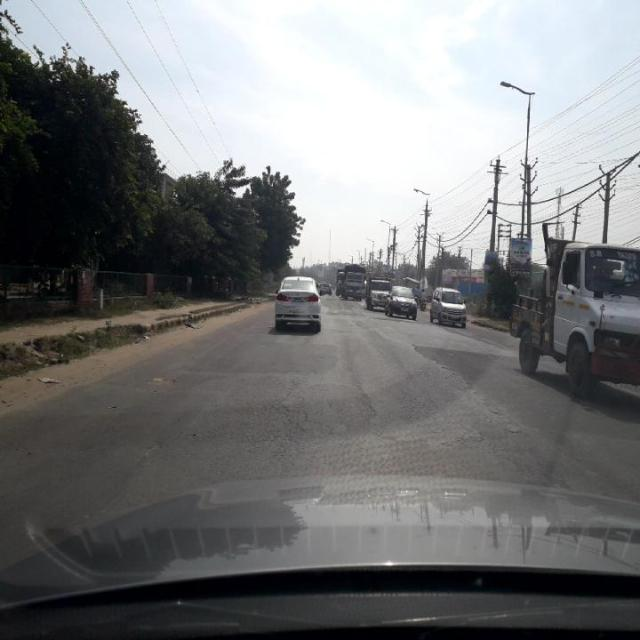Crack: (55, 298, 588, 488)
